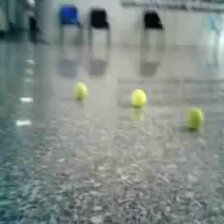tennis: (185, 106, 203, 128), (130, 88, 147, 107), (73, 81, 88, 97)
